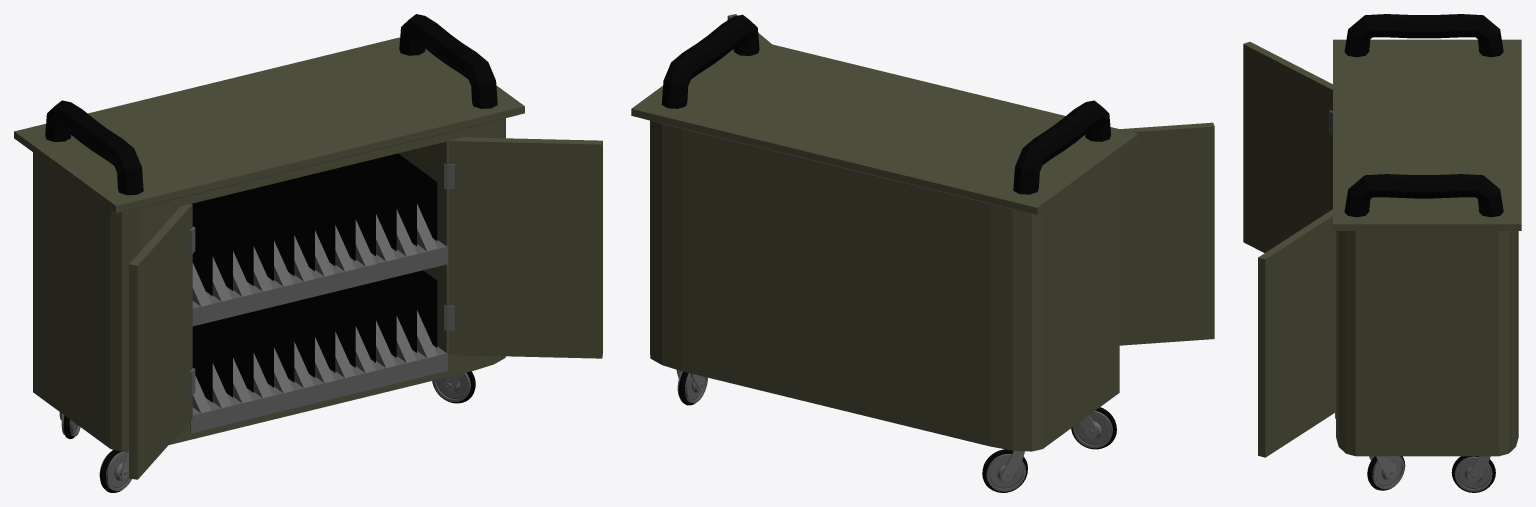
Rendered from carro compus.fbx.
3 renders of one model, left to right at view 1: azimuth 30°, elevation 25°; view 2: azimuth 150°, elevation 25°; view 3: azimuth 270°, elevation 25°, orthographic. The views are drawn at different scales.
Parts seen in each view (by area): view 1: CarroCompus.001; view 2: CarroCompus.001; view 3: CarroCompus.001.
Part boxes in pixels (bbox=[...]): CarroCompus.001: bbox=[14, 14, 602, 492]; CarroCompus.001: bbox=[631, 14, 1214, 492]; CarroCompus.001: bbox=[1243, 14, 1521, 492].
Size of the model in its own units: 860 by 593 by 464.
